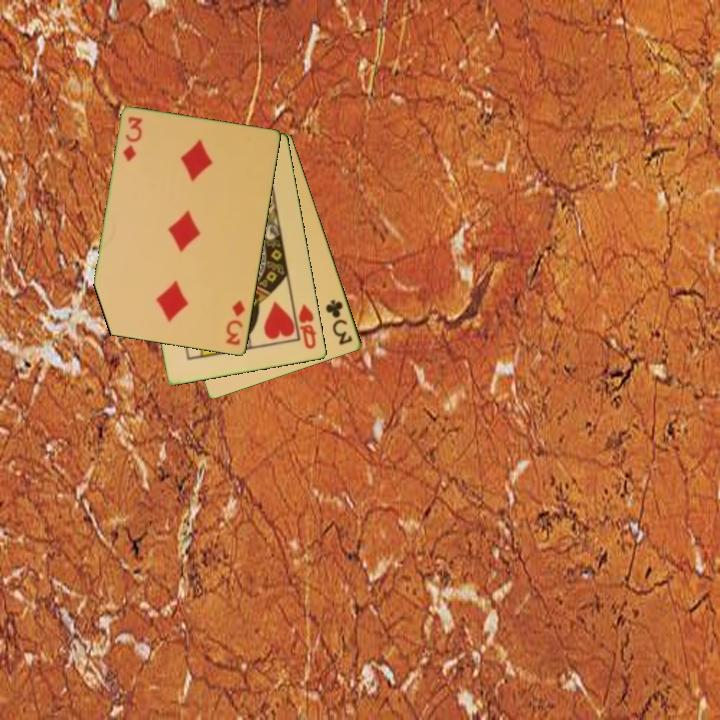3c: (322, 296, 356, 348)
3d: (222, 297, 248, 349), (120, 113, 146, 165)
Qh: (291, 300, 320, 352)
